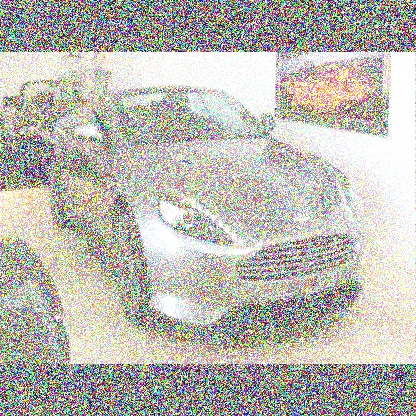Vehicle: (50, 85, 368, 336)
